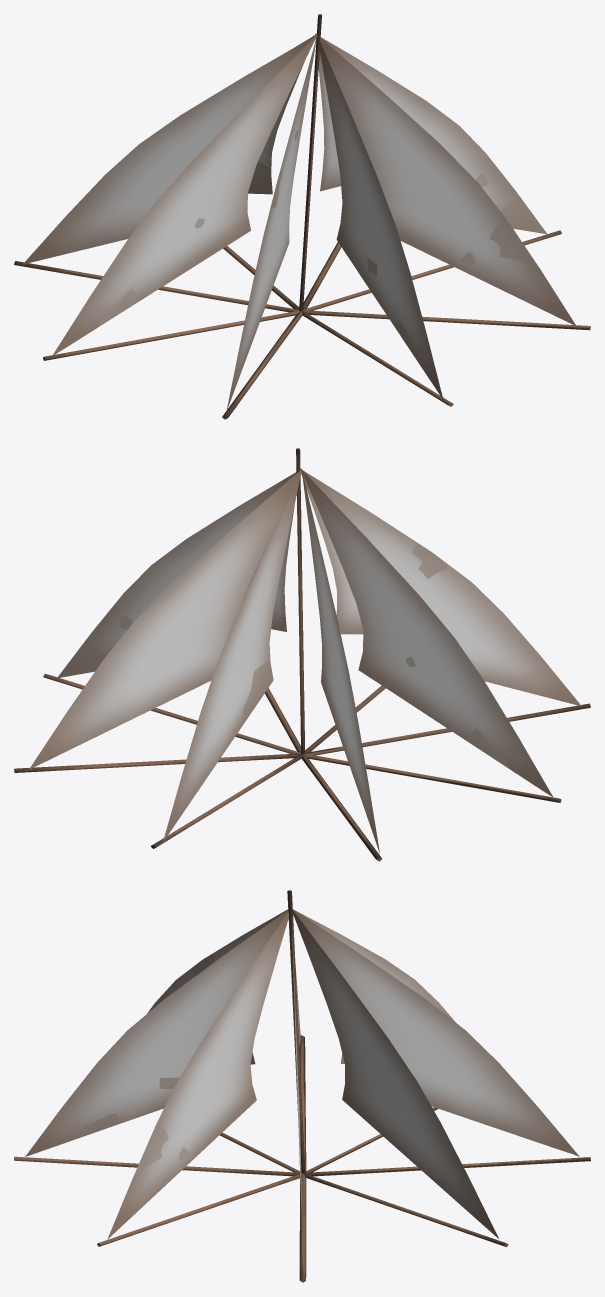
Rendered from Z3_WIndmill_Sail_texturé.FBX.
The picture shows the model from 3 angles, top to bottom: view 1: azimuth 30°, elevation 25°; view 2: azimuth 150°, elevation 25°; view 3: azimuth 270°, elevation 25°; orthographic projection. The views are drawn at different scales.
Parts seen in each view (by area): view 1: Z3_Windmill_Sail; view 2: Z3_Windmill_Sail; view 3: Z3_Windmill_Sail.
Part boxes in pixels (x1,y1,x2,y2): Z3_Windmill_Sail: (14,14,590,419); Z3_Windmill_Sail: (14,448,590,861); Z3_Windmill_Sail: (14,890,590,1282).
Bounding box in the file's own units: 1255 × 700 × 1255.
1 material, 1 textured.
